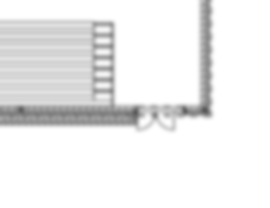double door: (137, 108, 175, 130)
wall: (1, 106, 136, 125), (201, 1, 211, 115), (183, 106, 210, 116)
